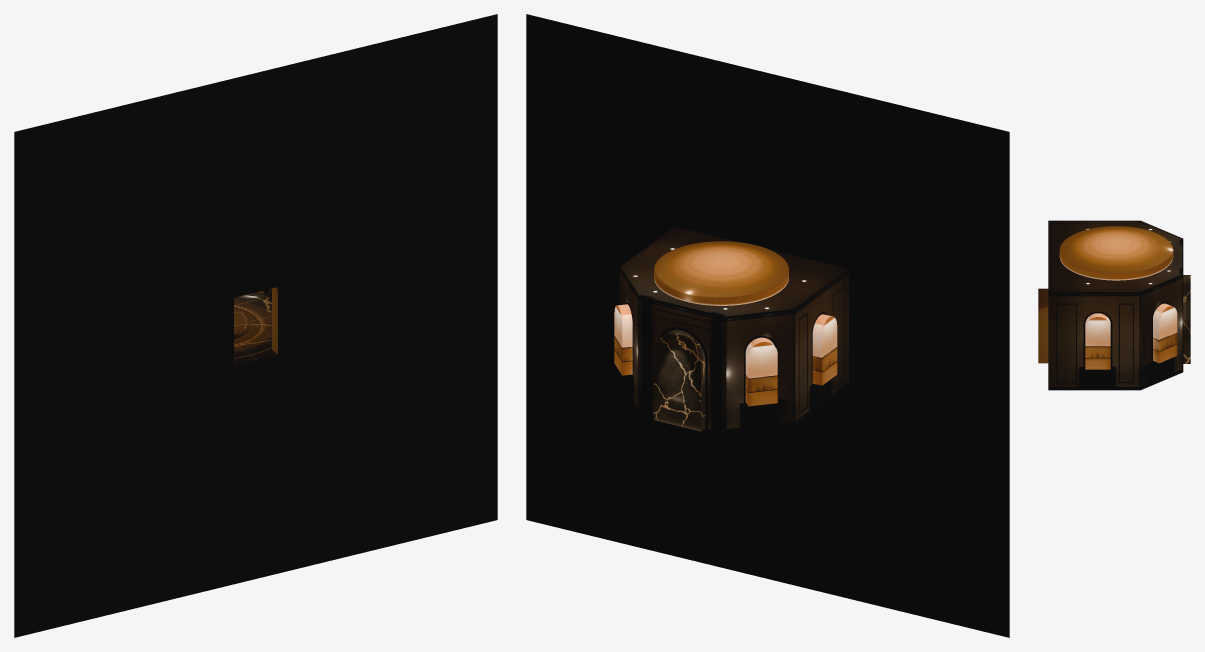
File: ysl_interior.glb
The picture shows the model from 3 angles, left to right: view 1: azimuth 30°, elevation 25°; view 2: azimuth 150°, elevation 25°; view 3: azimuth 270°, elevation 25°; orthographic projection. The views are drawn at different scales.
Parts seen in each view (by area): view 1: Portal_Occluder, INT_FLOOR; view 2: Portal_Occluder, INT_WALLS, INT_PROPS; view 3: INT_WALLS, INT_PROPS.
Boxes of the visible parts, x1=… form: Portal_Occluder: x1=14, y1=14, x2=497, y2=637; INT_FLOOR: x1=234, y1=292, x2=277, y2=364; Portal_Occluder: x1=526, y1=14, x2=1009, y2=637; INT_WALLS: x1=619, y1=226, x2=849, y2=433; INT_PROPS: x1=614, y1=296, x2=837, y2=432; INT_WALLS: x1=1038, y1=220, x2=1190, y2=390; INT_PROPS: x1=1080, y1=243, x2=1182, y2=390.
Size of the model in its own units: 5 by 5 by 1.62.
Materials: 4 (3 with a texture image).
